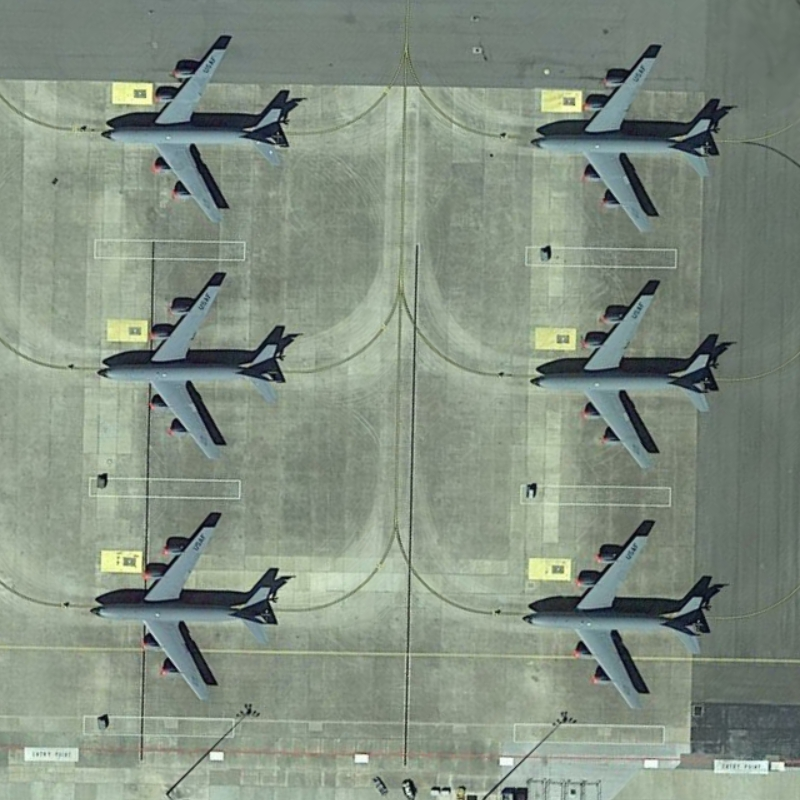A14: (515, 523, 716, 716), (522, 282, 718, 475), (87, 515, 282, 706), (97, 41, 293, 230), (92, 277, 289, 464), (527, 52, 721, 233)
